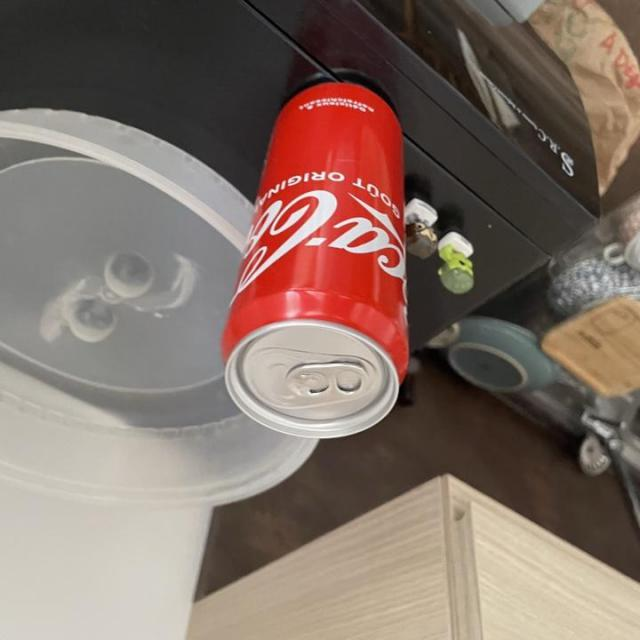can: (216, 62, 408, 442)
